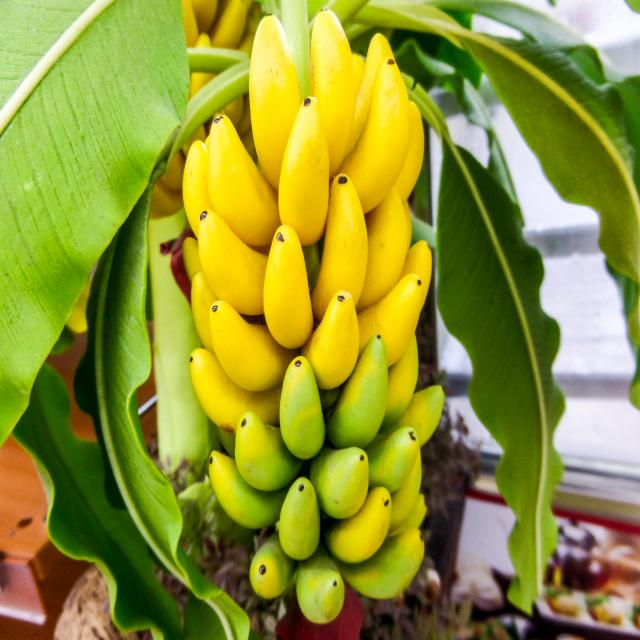banana: (181, 12, 520, 620)
